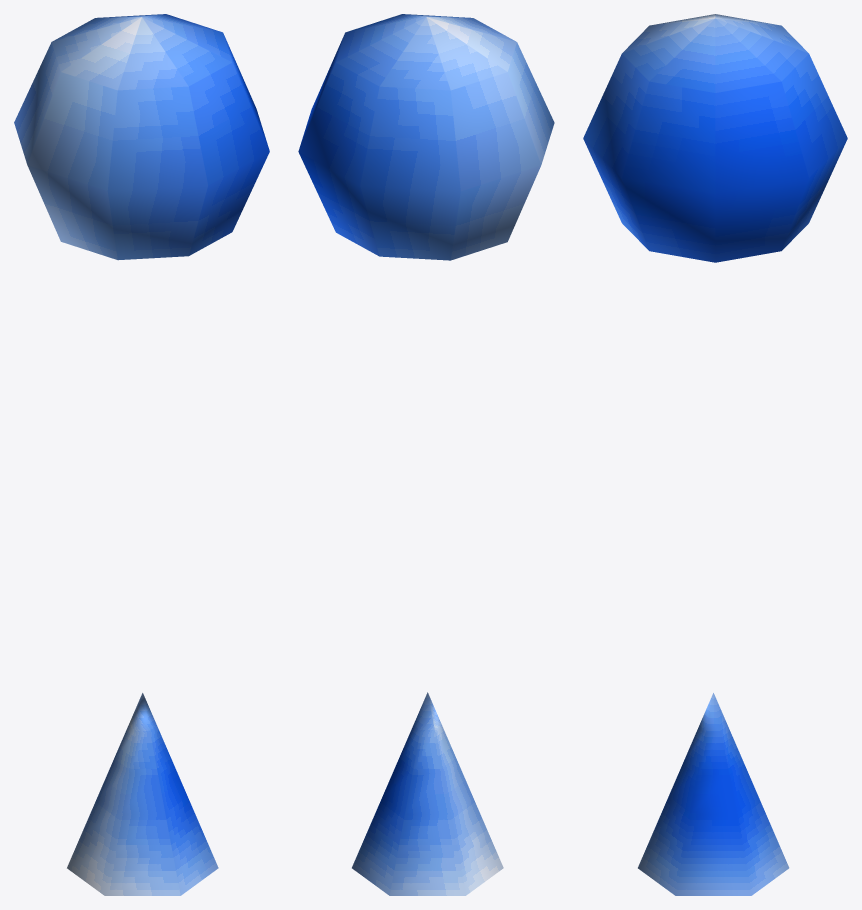
Rendered from coilfang_steam_off_on.obj.
The picture shows the model from 3 angles, left to right: view 1: azimuth 30°, elevation 25°; view 2: azimuth 150°, elevation 25°; view 3: azimuth 270°, elevation 25°; orthographic projection.
Visible parts, largest first — view 1: coilfang_steam_off_on; view 2: coilfang_steam_off_on; view 3: coilfang_steam_off_on.
Boxes of the visible parts, box(x1,y1,x2,y2) form: coilfang_steam_off_on: box(14, 14, 269, 895); coilfang_steam_off_on: box(298, 14, 554, 895); coilfang_steam_off_on: box(583, 14, 847, 895).
Size of the model in its own units: 2.02 by 7.16 by 2.02.
1 material, 1 textured.
